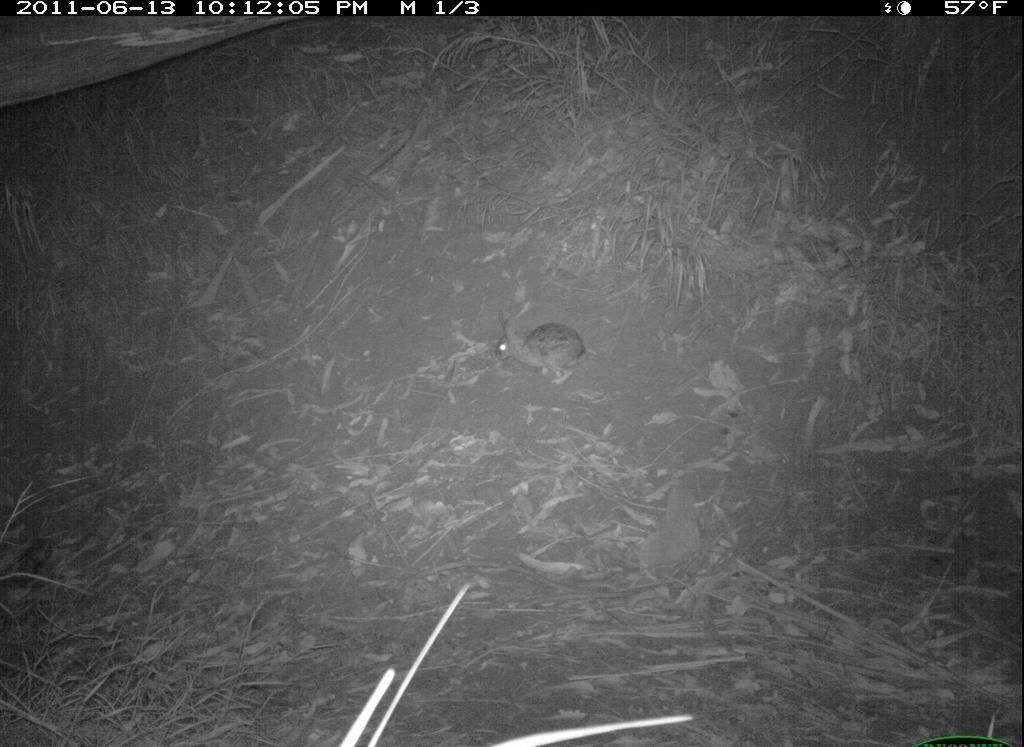rabbit: (483, 295, 609, 396)
